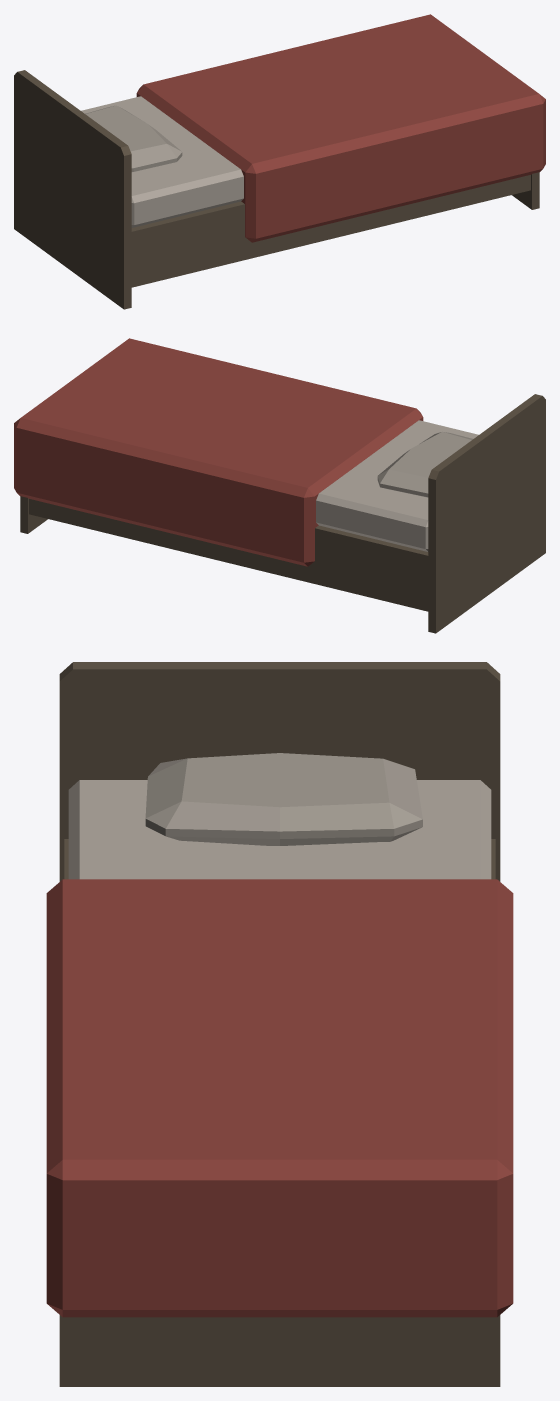
File: SM_Props_Interior_House_Room_Bed_01.fbx
3 renders of one model, top to bottom at view 1: azimuth 30°, elevation 25°; view 2: azimuth 150°, elevation 25°; view 3: azimuth 270°, elevation 25°, orthographic. The views are drawn at different scales.
Parts seen in each view (by area): view 1: SM_Props_Interior_House_Room_Bed_01; view 2: SM_Props_Interior_House_Room_Bed_01; view 3: SM_Props_Interior_House_Room_Bed_01.
Boxes of the visible parts, x1,y1,x2,y2 form: SM_Props_Interior_House_Room_Bed_01: (14, 14, 545, 309); SM_Props_Interior_House_Room_Bed_01: (14, 338, 545, 633); SM_Props_Interior_House_Room_Bed_01: (46, 662, 513, 1386).
Size of the model in its own units: 222 by 80 by 106.
